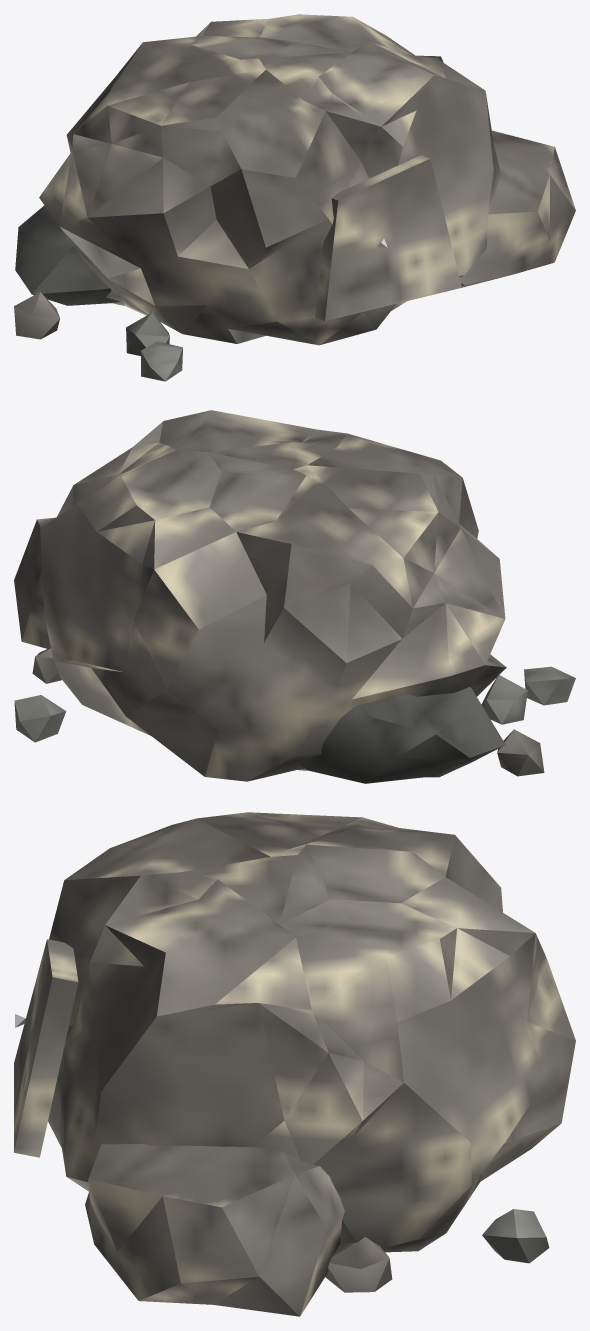
File: SM_StoneDeposit01.fbx
3 renders of one model, top to bottom at view 1: azimuth 30°, elevation 25°; view 2: azimuth 150°, elevation 25°; view 3: azimuth 270°, elevation 25°, orthographic. The views are drawn at different scales.
Visible parts, largest first — view 1: SM_StoneDeposit01; view 2: SM_StoneDeposit01; view 3: SM_StoneDeposit01.
Part boxes in pixels (box(x1,y1,x2,y2)): SM_StoneDeposit01: box(14, 14, 575, 381); SM_StoneDeposit01: box(14, 410, 575, 783); SM_StoneDeposit01: box(14, 812, 575, 1316).
Size of the model in its own units: 5.99 by 2.48 by 4.24.
Materials: 1 (1 with a texture image).
